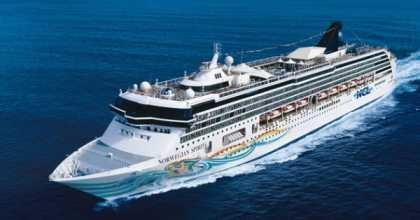youlun: (53, 23, 396, 199)
